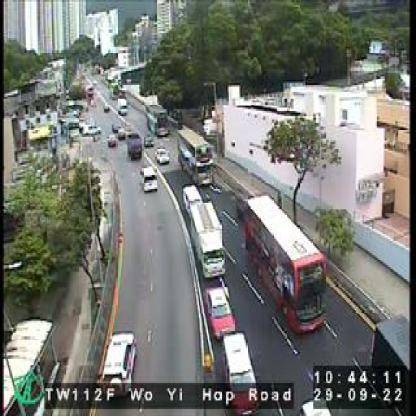Bus: (241, 189, 330, 334), (173, 127, 211, 187), (143, 97, 168, 132)
Car: (216, 335, 260, 409), (99, 326, 139, 395), (203, 288, 235, 333), (138, 163, 160, 192), (181, 184, 205, 209), (126, 132, 144, 164), (154, 146, 170, 163), (104, 134, 118, 146), (115, 128, 124, 140)
Truck: (187, 202, 225, 275), (118, 97, 129, 114)
